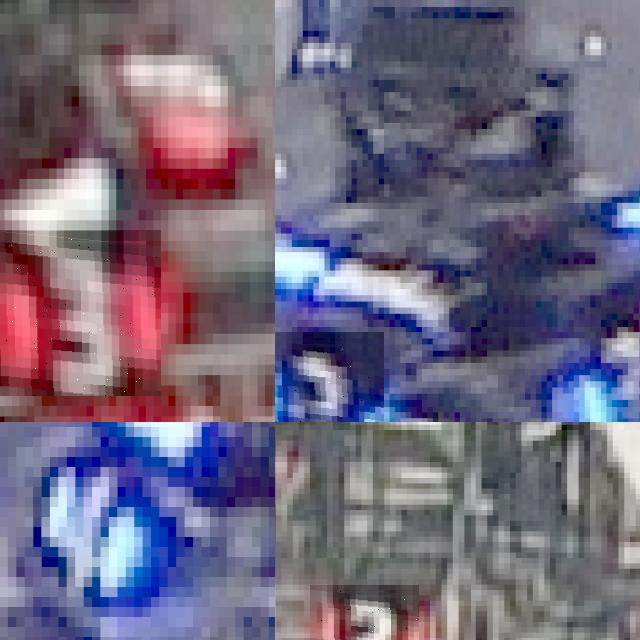B3: (275, 332, 384, 422), (574, 326, 640, 422)
B4: (16, 457, 168, 627)
R2: (310, 584, 418, 640)
R3: (0, 230, 161, 395)
